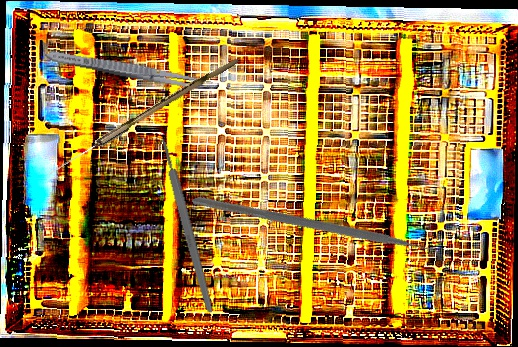Chopper: (191, 125, 448, 343)
Dressing Forceps: (43, 47, 215, 93)
Scalpel Handle: (158, 137, 216, 315)
Surgical Spoon: (45, 53, 239, 181)
